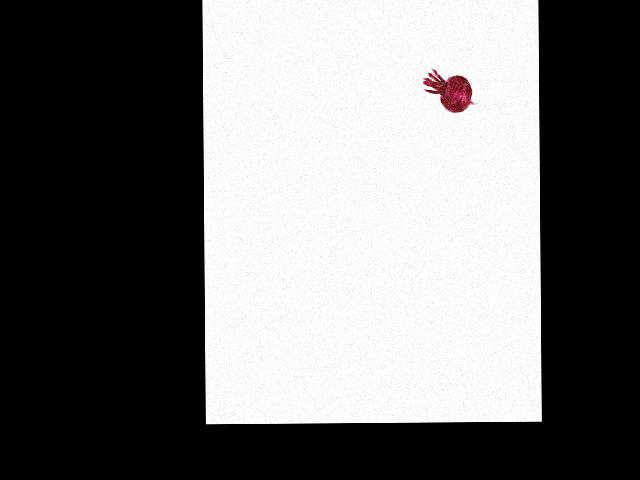beet: (423, 68, 479, 113)
